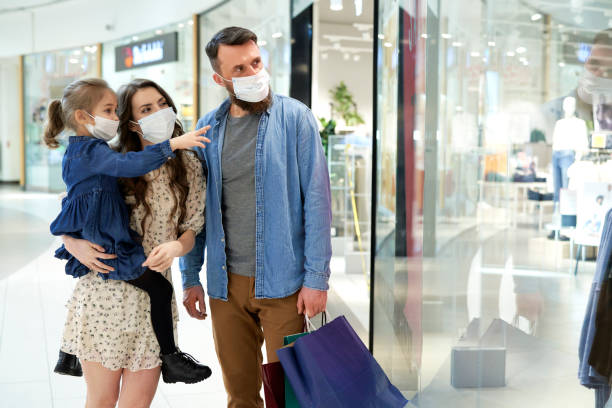with mask: (205, 26, 271, 111), (117, 75, 179, 145), (57, 77, 121, 141)
